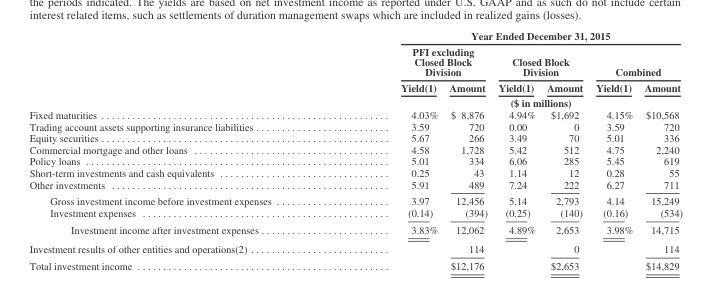table: (28, 29, 682, 271)
table column: (28, 29, 335, 271), (335, 29, 442, 271), (442, 29, 492, 271), (588, 29, 638, 271), (492, 29, 540, 271), (540, 29, 588, 271), (638, 29, 682, 271)
table column header: (28, 29, 682, 108)
table row: (28, 43, 682, 79), (28, 220, 682, 239), (28, 239, 682, 257), (28, 79, 682, 94), (28, 29, 682, 43), (28, 94, 682, 108), (28, 178, 682, 192), (28, 192, 682, 206), (28, 206, 682, 220), (28, 257, 682, 271), (28, 108, 682, 120), (28, 131, 682, 143), (28, 143, 682, 155), (28, 166, 682, 178), (28, 120, 682, 131), (28, 155, 682, 166)
table spanning cell: (335, 43, 492, 79), (335, 29, 682, 43), (335, 94, 682, 108), (492, 43, 588, 79), (588, 43, 682, 79)
